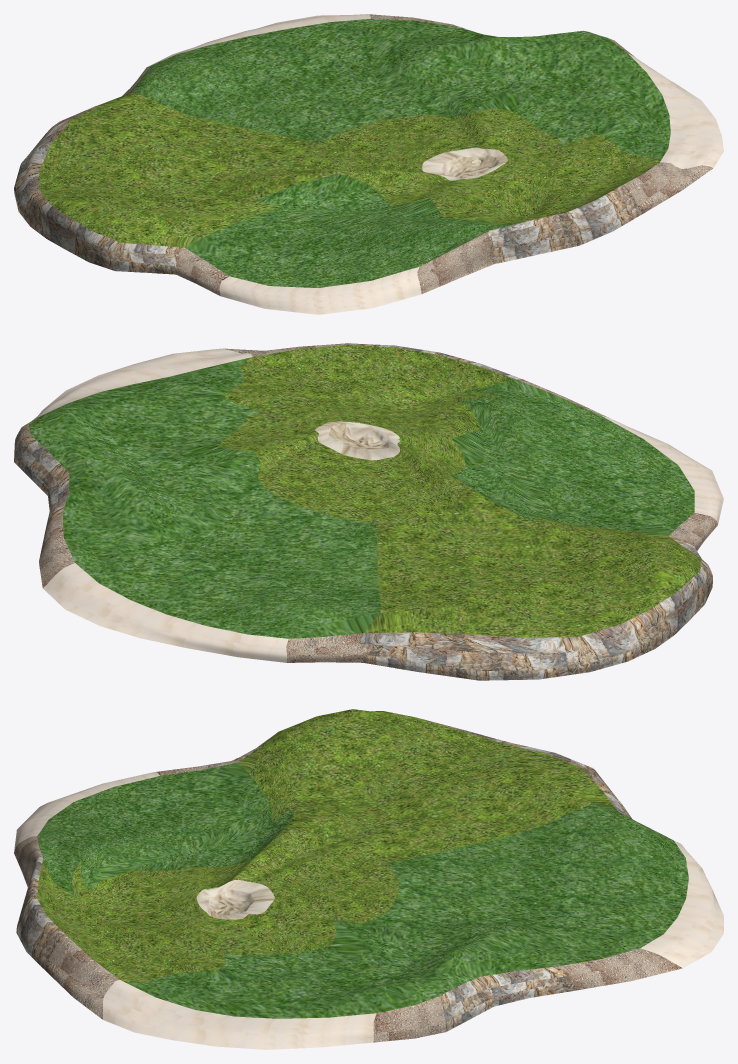
File: IslandBase002.fbx
3 renders of one model, top to bottom at view 1: azimuth 30°, elevation 25°; view 2: azimuth 150°, elevation 25°; view 3: azimuth 270°, elevation 25°, orthographic. The views are drawn at different scales.
Visible parts, largest first — view 1: Tube001; view 2: Tube001; view 3: Tube001.
Boxes of the visible parts, x1=… form: Tube001: x1=14, y1=14, x2=723, y2=314; Tube001: x1=14, y1=343, x2=723, y2=680; Tube001: x1=14, y1=709, x2=723, y2=1049.
Bounding box in the file's own units: 243 × 24.54 × 215.
